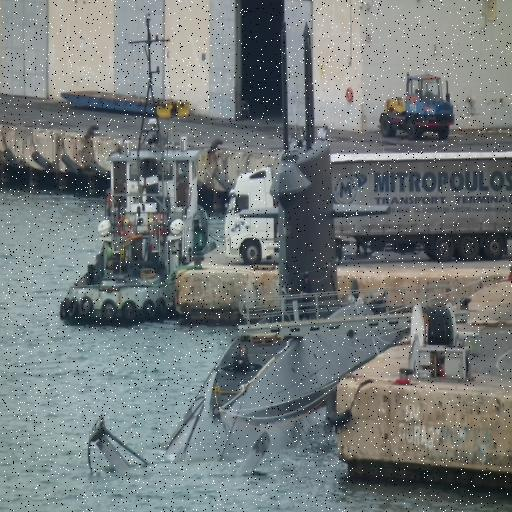submarine: (89, 148, 451, 479)
